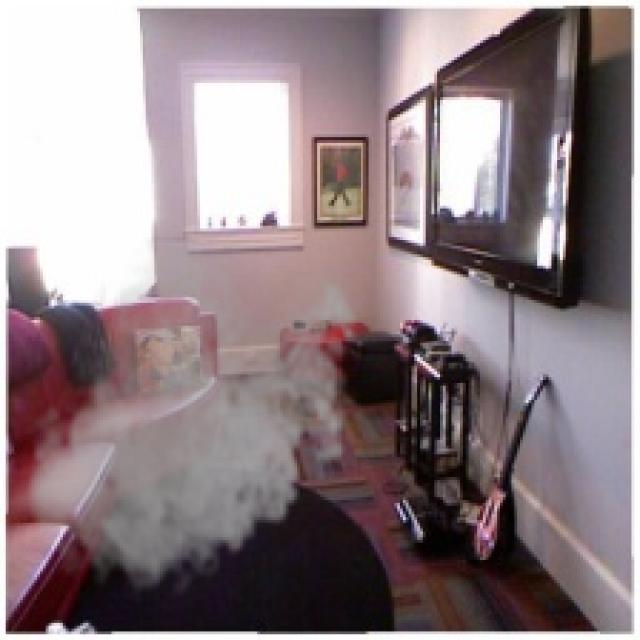smoke: (20, 237, 369, 603)
